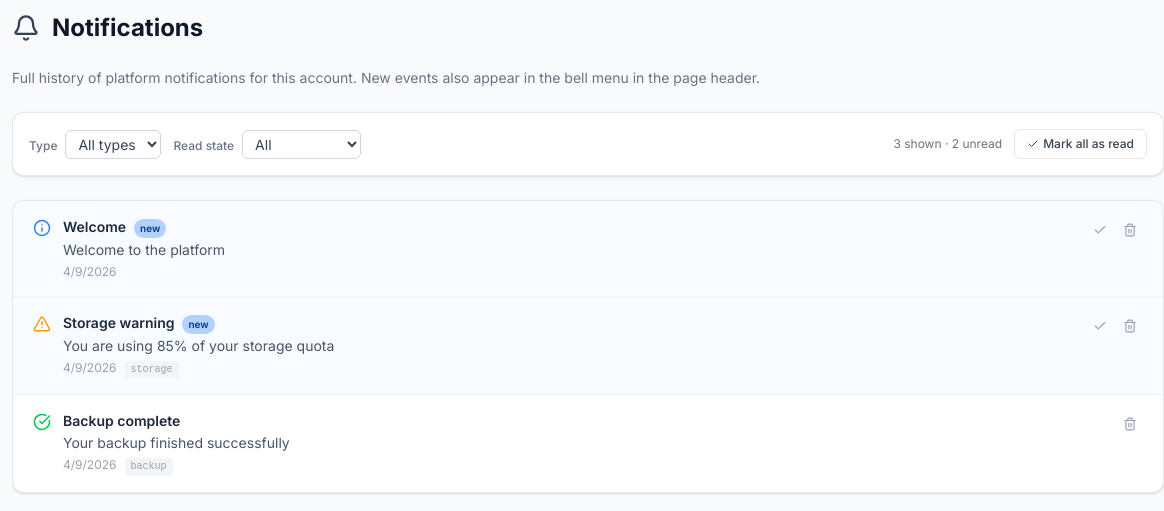
Test: Notifications page › cancels delete confirmation without firing the mutation
Click the button with test id "delete-notification-n-1": point(1130, 230) x1=1117 y1=217 x2=1143 y2=243
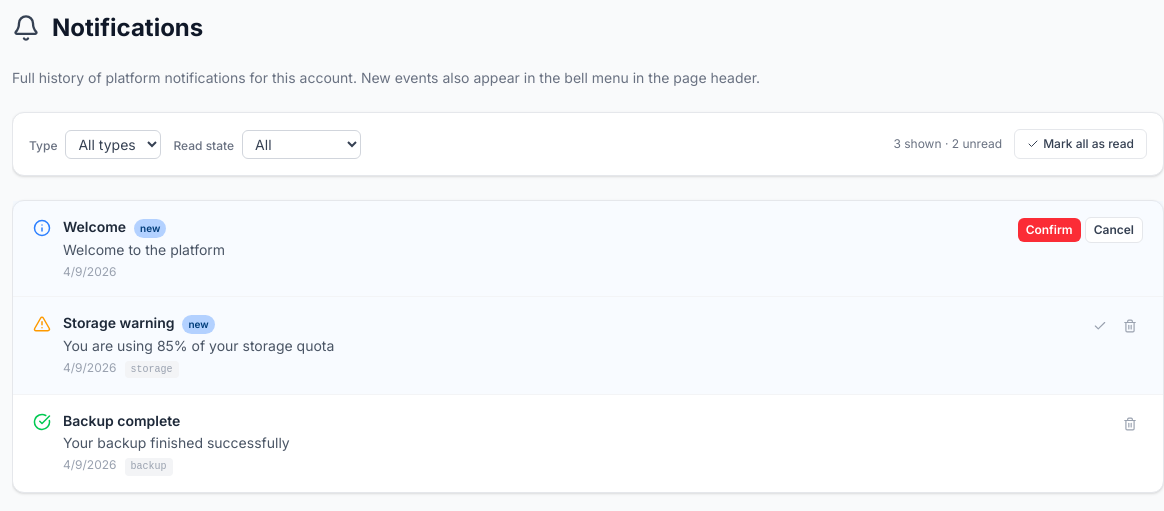
Expected: the element with test id "confirm-delete-n-1" is shown, x1=1018 y1=217 x2=1143 y2=243
Click the button with test id "confirm-delete-cancel-n-1": point(1114, 230) x1=1085 y1=217 x2=1143 y2=243
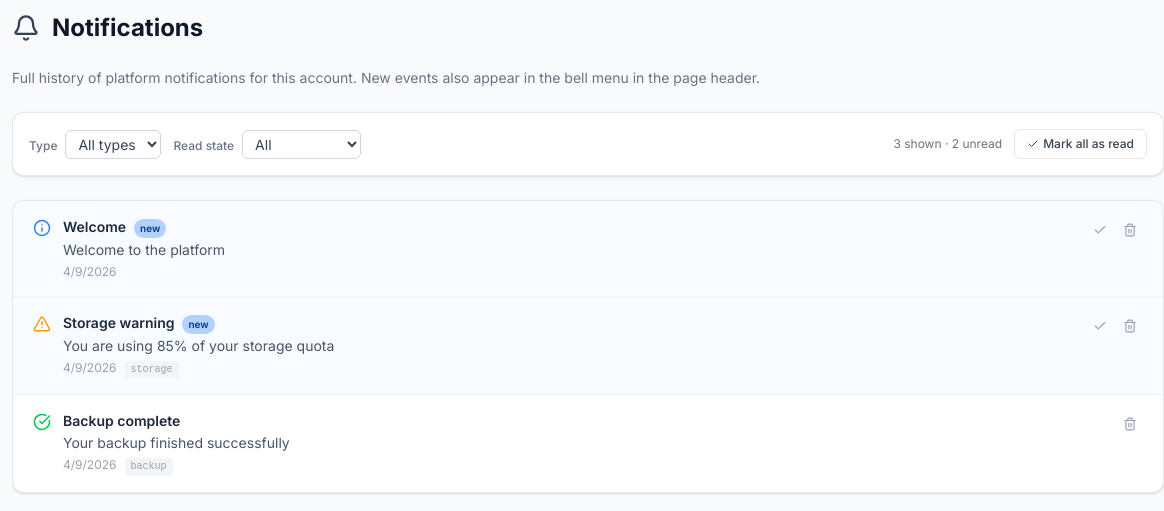
Expected: the element with test id "confirm-delete-n-1" is gone
